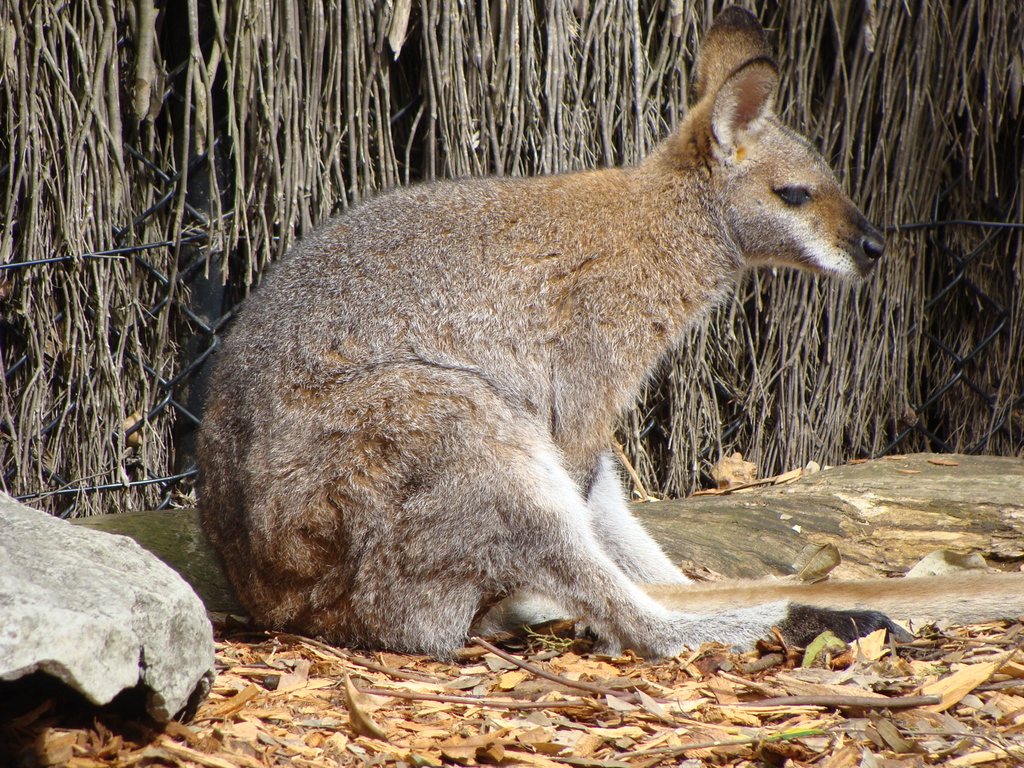kangaroo: (194, 4, 914, 662)
